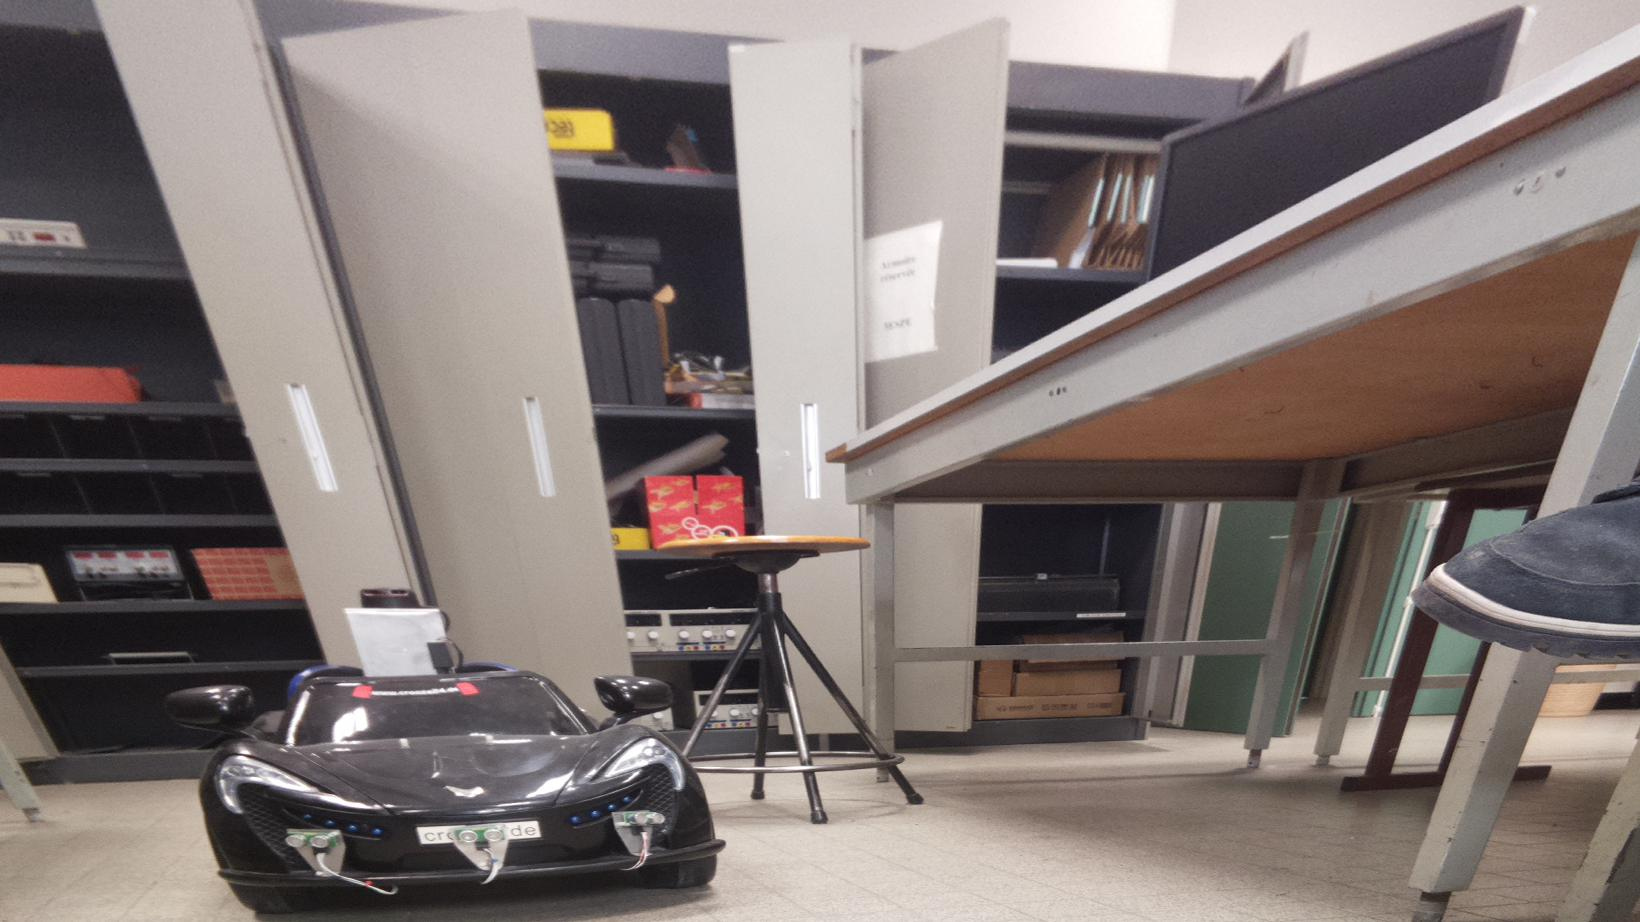big: (180, 585, 734, 917)
